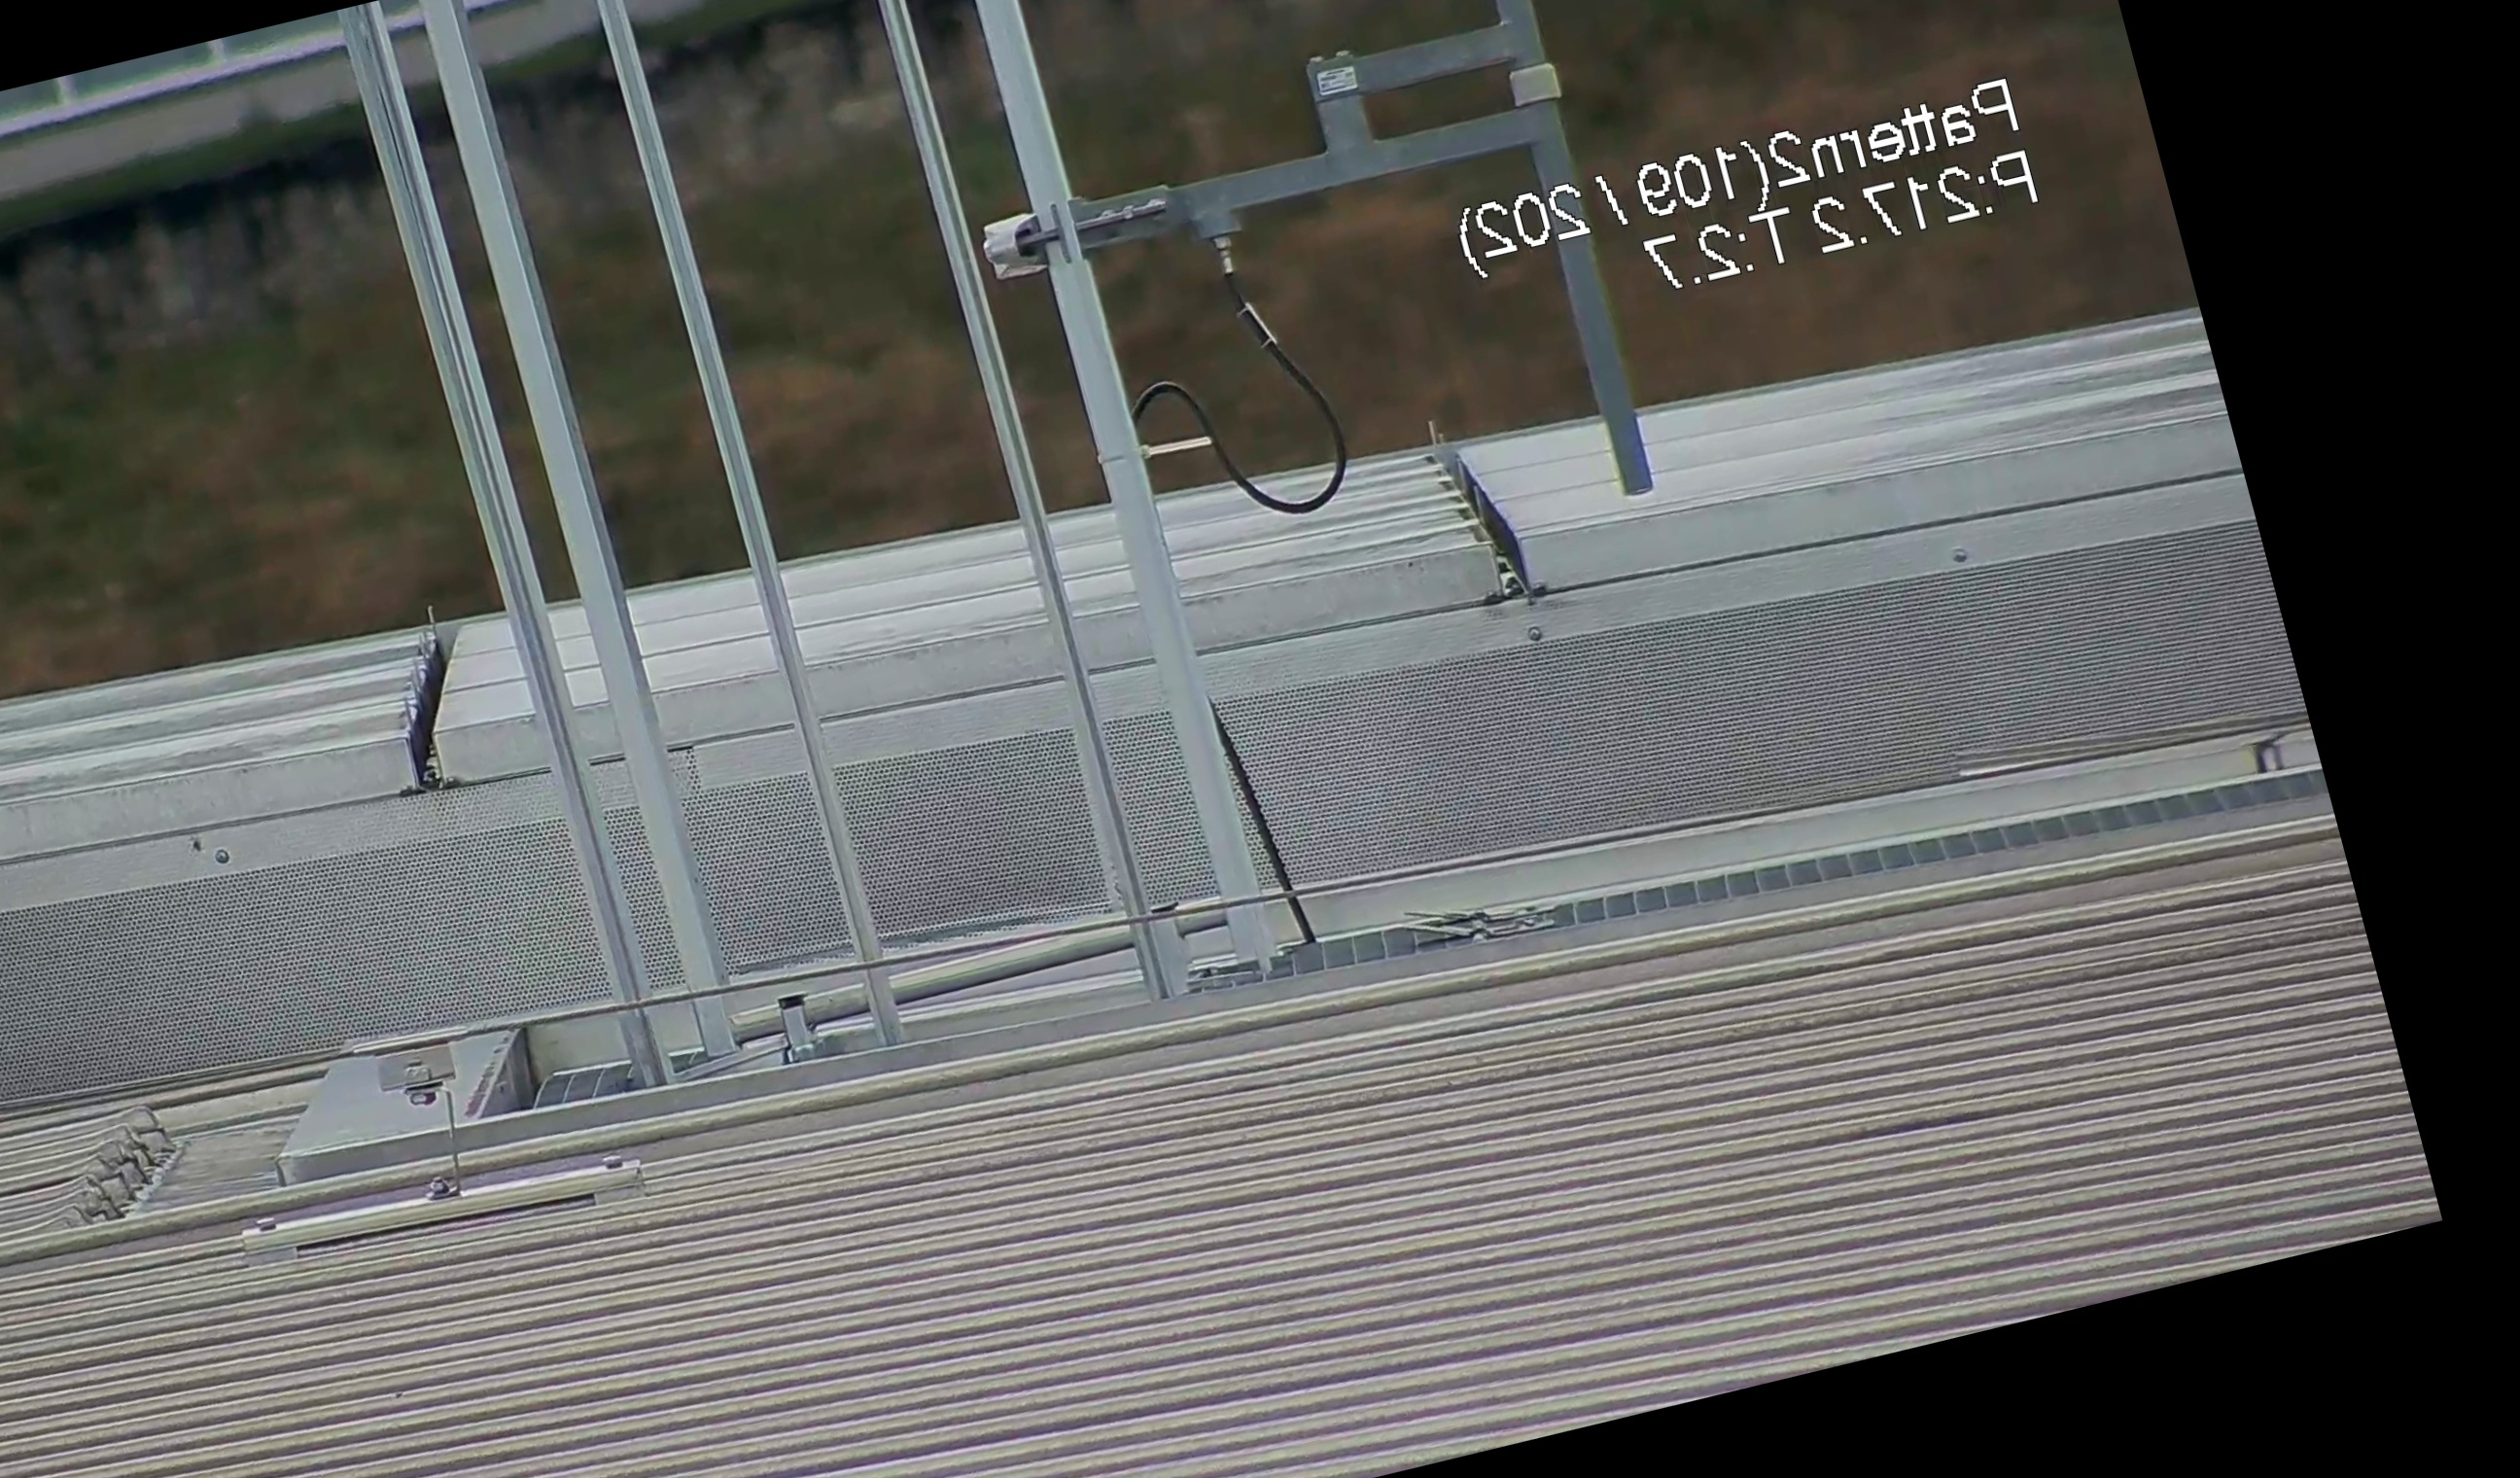Other: (353, 602, 498, 808)
